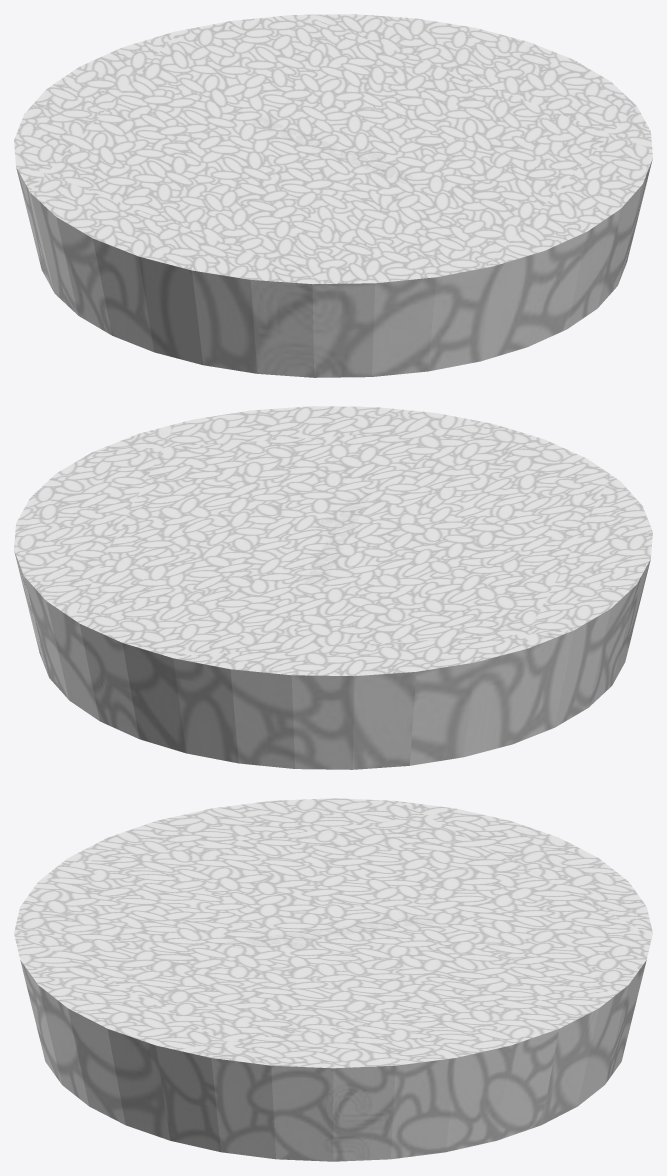
The model's file is riceInPot.fbx.
3 renders of one model, top to bottom at view 1: azimuth 30°, elevation 25°; view 2: azimuth 150°, elevation 25°; view 3: azimuth 270°, elevation 25°, orthographic.
Parts seen in each view (by area): view 1: rice in pot; view 2: rice in pot; view 3: rice in pot.
Boxes of the visible parts, bbox=[...] form: rice in pot: bbox=[14, 14, 652, 377]; rice in pot: bbox=[14, 406, 652, 769]; rice in pot: bbox=[14, 798, 652, 1161].
Bounding box in the file's own units: 232 × 41.79 × 232.
1 material, 1 textured.
